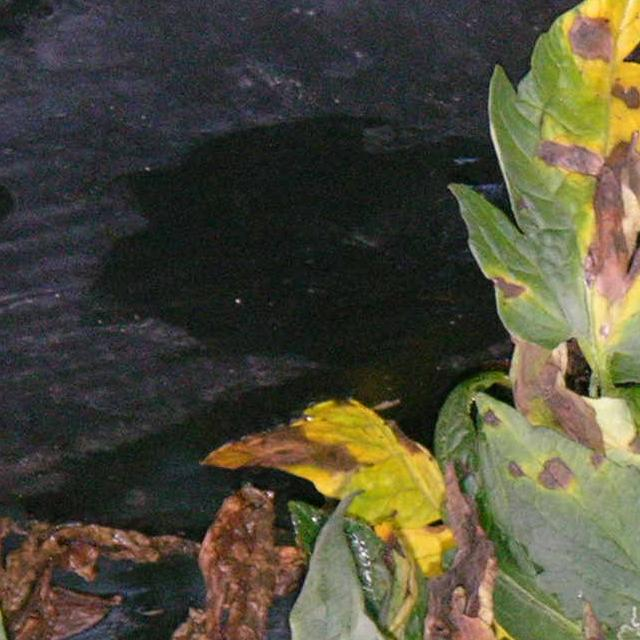Tomato leaf: (486, 0, 640, 377), (0, 486, 67, 640)
